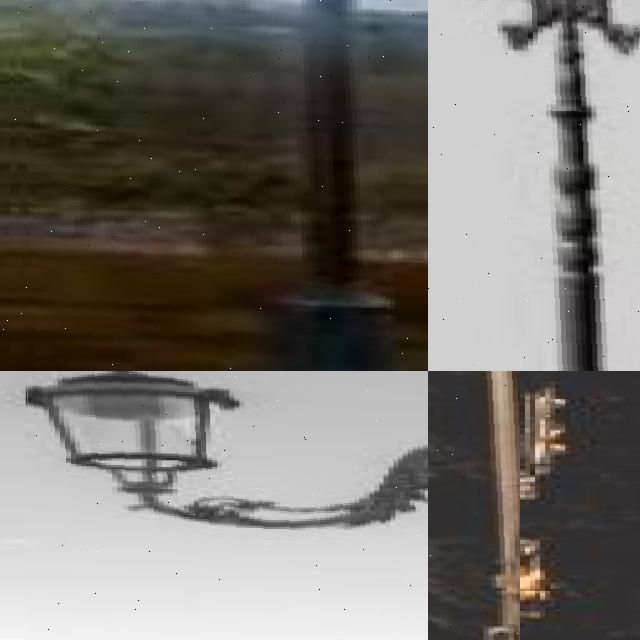street light: (0, 0, 428, 371), (25, 371, 428, 640), (428, 0, 640, 371), (428, 371, 520, 640)
